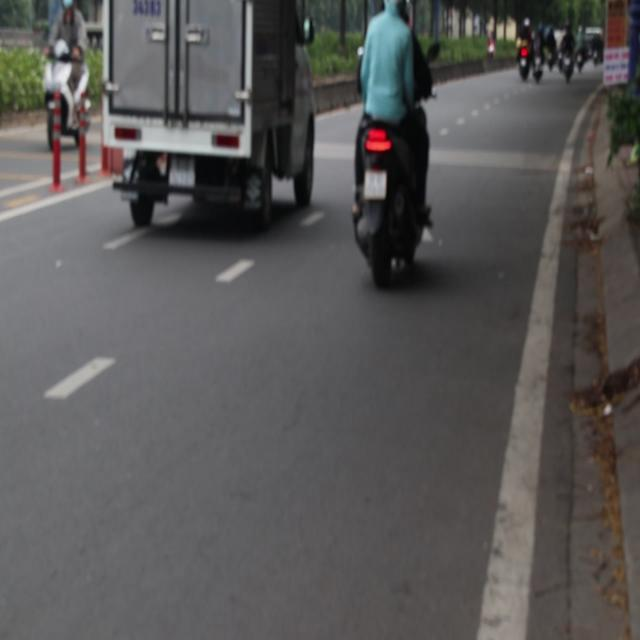motorbike: (351, 110, 435, 294), (18, 31, 80, 144), (526, 42, 544, 104), (514, 38, 531, 82), (544, 43, 556, 86), (576, 25, 580, 73), (568, 62, 572, 92)
truck: (98, 2, 324, 235)
